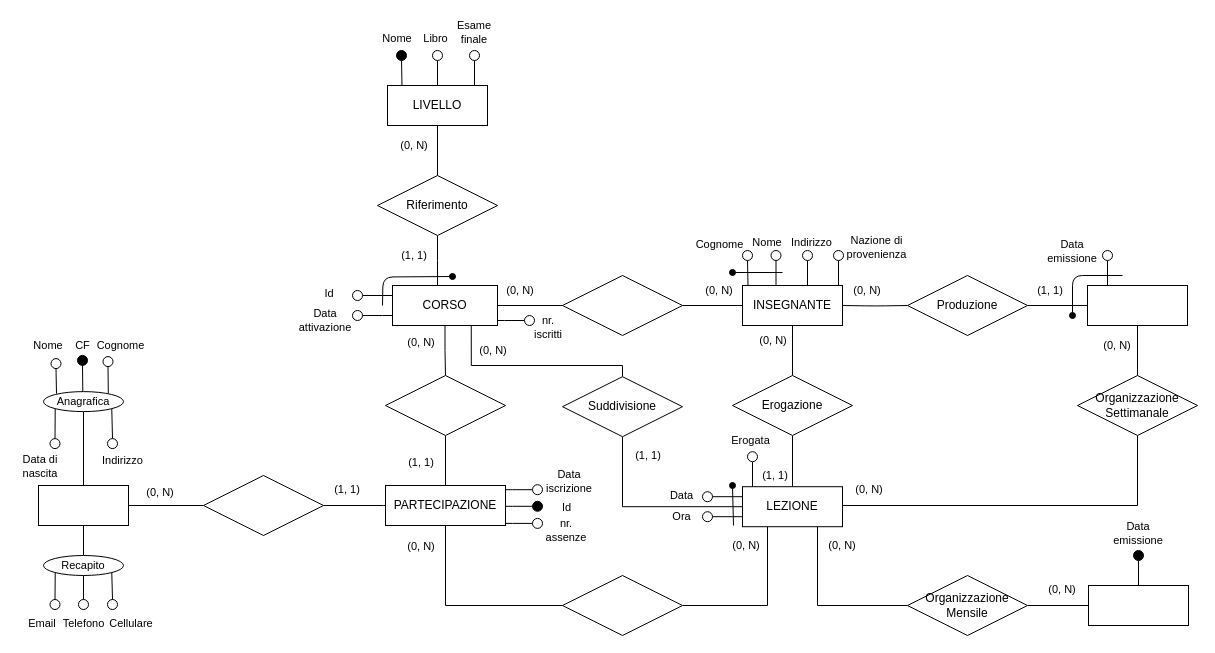
Image size: 1215x653. Some labels were removed from this diagram. The centre of each missing label's shape, as x and y in pixels:
"Afferenza" belongs at (x=622, y=305).
"Assenza" belongs at (x=622, y=605).
"Corrispondenza" belongs at (x=445, y=405).
"ISCRITTO" belongs at (x=83, y=505).
"Necessità" belongs at (x=263, y=505).
"REPORT MENSILE" belongs at (x=1138, y=605).
"REPORT SETTIMANALE" belongs at (x=1137, y=305).
